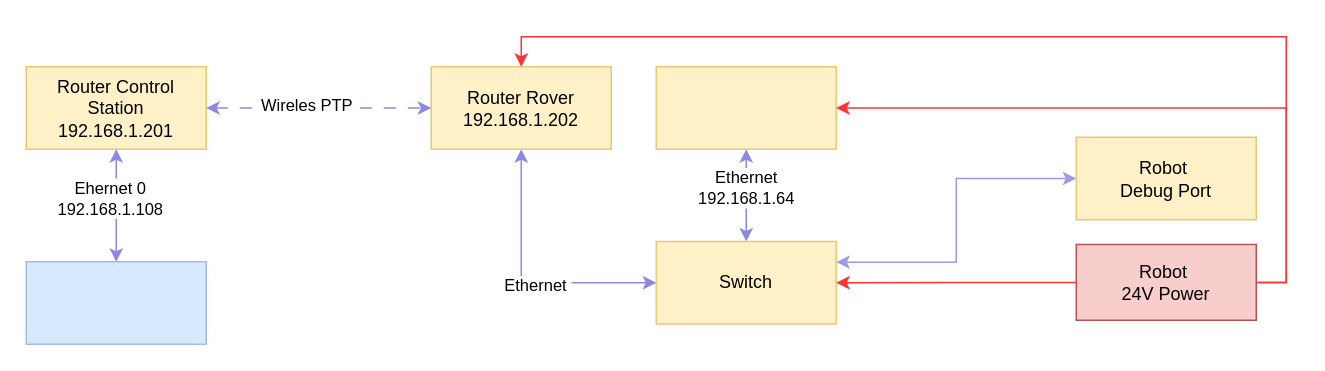
Some shapes in this 1325 by 371 pixel diagram are drawn without their labels. Here are the shapes that lost their labels. From the top down, the centre of each, then its label:
At [745,107]: "Thermal Camera".
At [115,302]: "Control Station PC".
